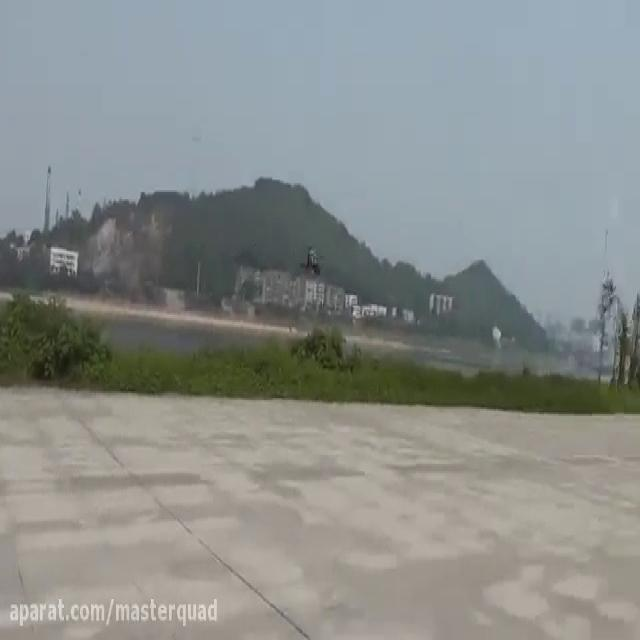drone: (298, 244, 328, 278)
